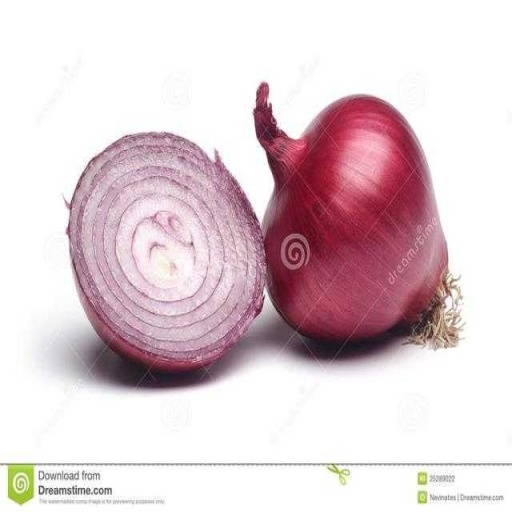Zwiebel: (254, 81, 466, 349), (68, 131, 266, 374)
